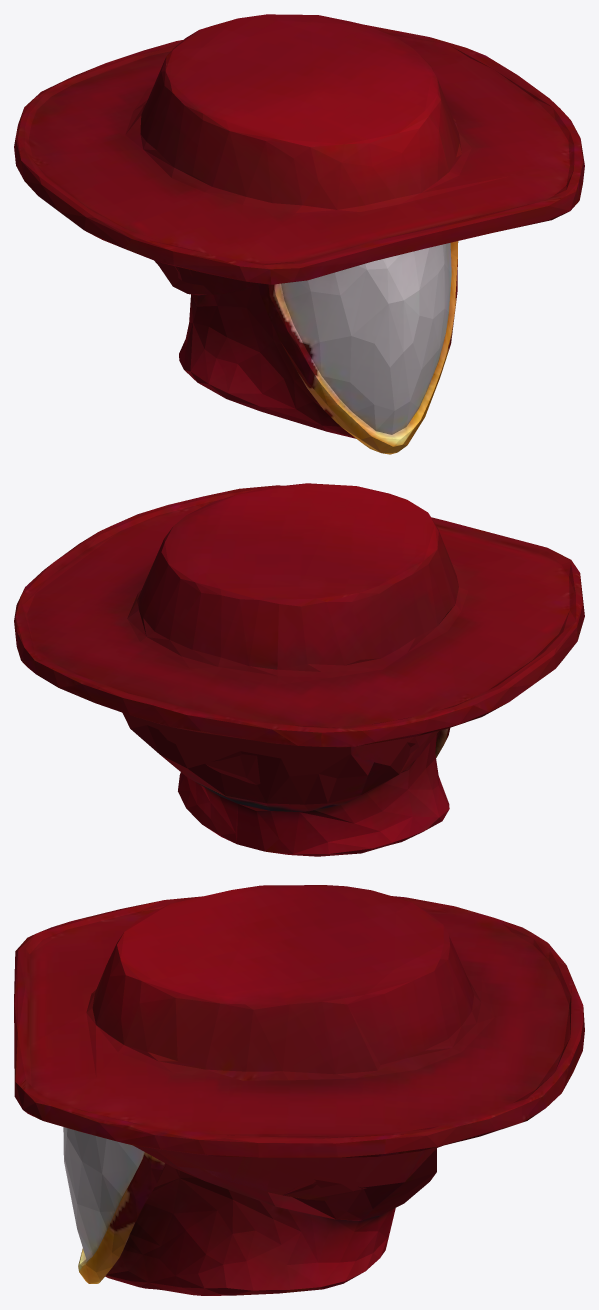
File: dsa_deadeye_helm_lo.glb
3 renders of one model, top to bottom at view 1: azimuth 30°, elevation 25°; view 2: azimuth 150°, elevation 25°; view 3: azimuth 270°, elevation 25°, orthographic. The views are drawn at different scales.
Parts seen in each view (by area): view 1: tmpcywvk82g.ply; view 2: tmpcywvk82g.ply; view 3: tmpcywvk82g.ply.
Part boxes in pixels (x1,y1,x2,y2): tmpcywvk82g.ply: (14, 14, 584, 454); tmpcywvk82g.ply: (14, 483, 584, 856); tmpcywvk82g.ply: (14, 885, 584, 1295).
Bounding box in the file's own units: 1.99 × 1.28 × 1.91.
Materials: 1 (1 with a texture image).
